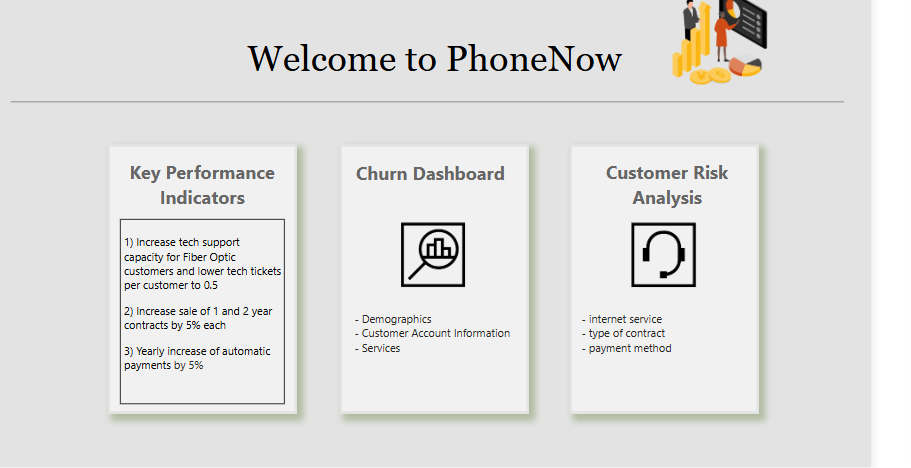

The page's visual inventory and layout, read from the dashboard file:
{"tool":"powerbi","page":{"name":"Welcome","canvas":[1280,720],"ordinal":0},"visuals":[{"type":"basicShape","box":[500.5,238.4,276.8,396.5],"z":0},{"type":"basicShape","box":[839.4,238.4,276.8,396.5],"z":1000},{"type":"textbox","box":[0,77,1280,78.9],"z":2000},{"type":"basicShape","box":[7.9,155.9,1243.8,40.7],"z":3000},{"type":"image","box":[924.5,347.8,105,105],"z":4000},{"type":"textbox","box":[843.6,256.2,276.7,86.7],"z":5000},{"type":"image","box":[584.4,347.8,105,105],"z":6000},{"type":"textbox","box":[517.4,257,233.5,87.3],"z":9000},{"type":"textbox","box":[517.4,479.5,255.3,140.1],"z":10000},{"type":"image","box":[947.4,0,223.4,156.2],"z":12000},{"type":"textbox","box":[850.4,479.3,255.2,140.3],"z":13000},{"type":"basicShape","box":[160.4,238.4,276.8,396.5],"z":14000},{"type":"textbox","box":[160.7,256.2,276.7,86.7],"z":15000},{"type":"textbox","box":[178.3,347.8,241.6,271.8],"z":16000}]}

Visuals, with their boxes on the page's 1280x720 design canvas (x1, y1, x2, y2). These are canvas units, not pixel positions in the 911x468 screenshot, which may show the page scaled, cropped or inside an application window:
basicShape: (500, 238, 777, 635)
basicShape: (839, 238, 1116, 635)
textbox: (0, 77, 1280, 156)
basicShape: (8, 156, 1252, 197)
image: (924, 348, 1030, 453)
textbox: (844, 256, 1120, 343)
image: (584, 348, 689, 453)
textbox: (517, 257, 751, 344)
textbox: (517, 480, 773, 620)
image: (947, 0, 1171, 156)
textbox: (850, 479, 1106, 620)
basicShape: (160, 238, 437, 635)
textbox: (161, 256, 437, 343)
textbox: (178, 348, 420, 620)
